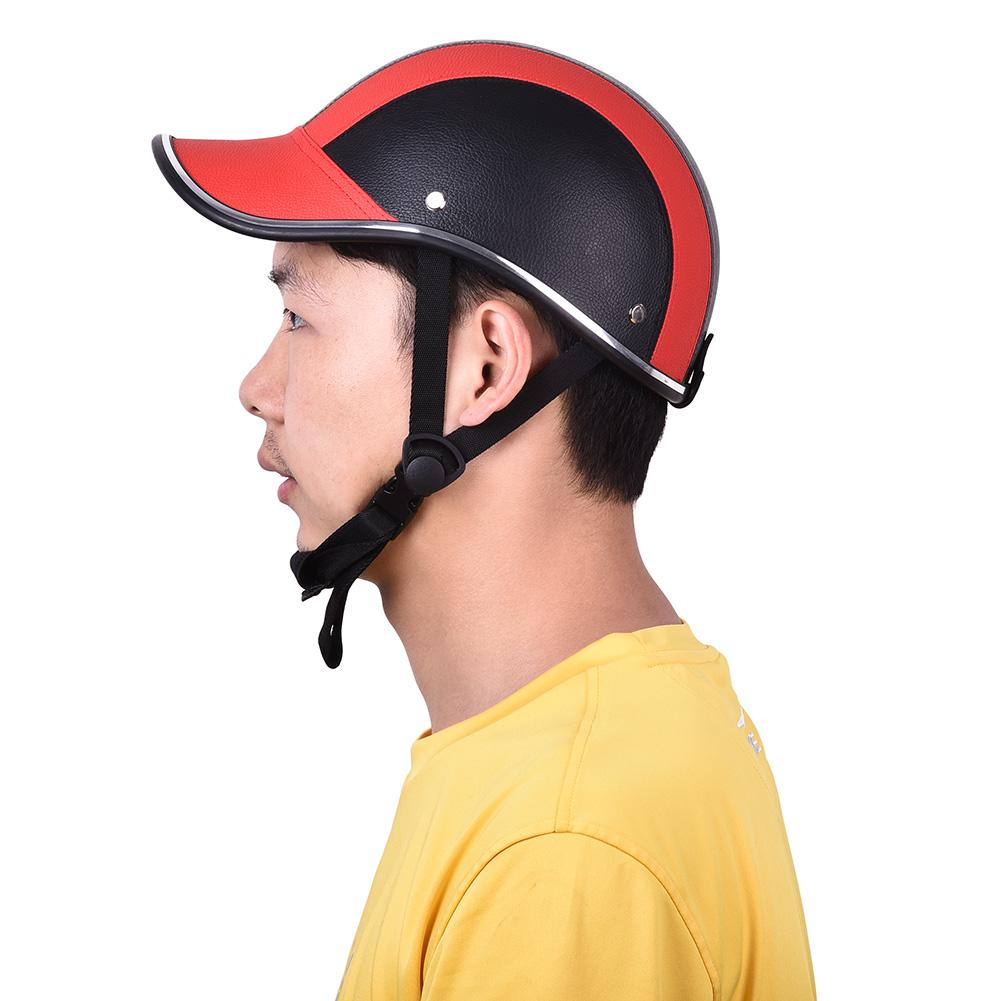helmet: (143, 19, 734, 438)
